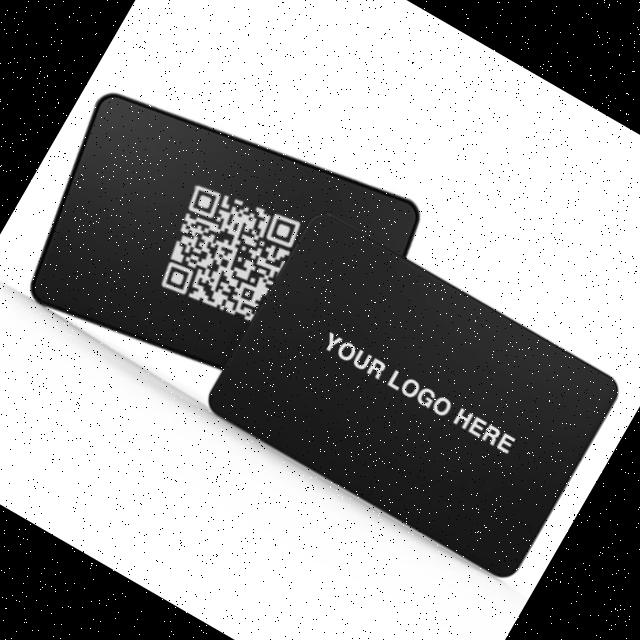QR-codes: (141, 166, 314, 340)
